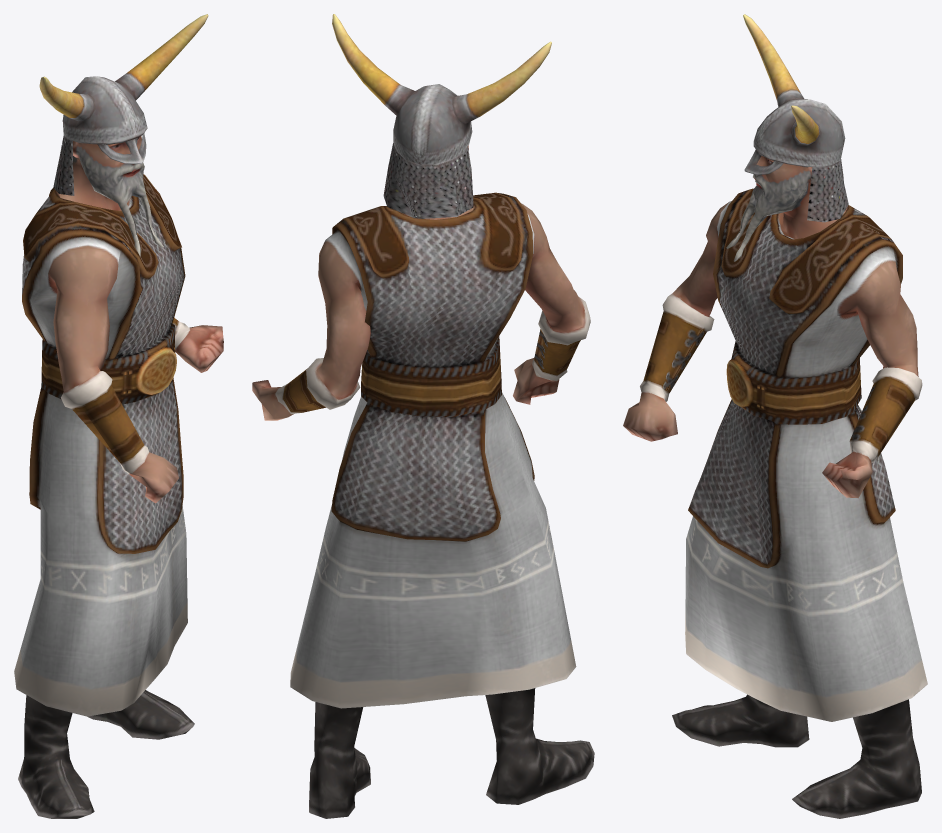
File: 83-hersir.glb
3 views of the same model, side by side, from view 1: azimuth 30°, elevation 25°; view 2: azimuth 150°, elevation 25°; view 3: azimuth 270°, elevation 25° (orthographic). The views are drawn at different scales.
Bounding box in the file's own units: 0.9183 × 2.48 × 0.9572.
1 material, 1 textured.
